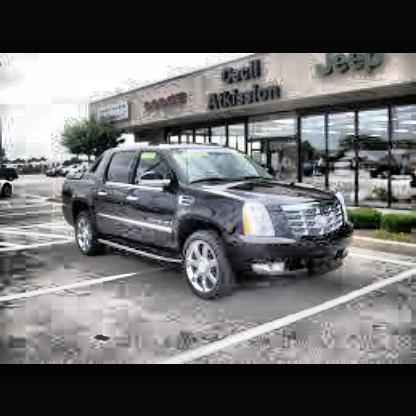Cadillac Escalade EXT Crew Cab 2007: (62, 144, 354, 298)
